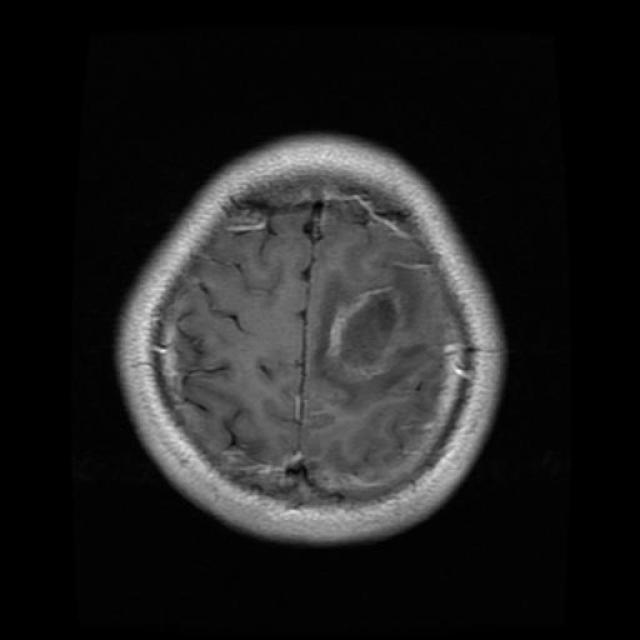brain_tumor: (342, 292, 395, 366)
